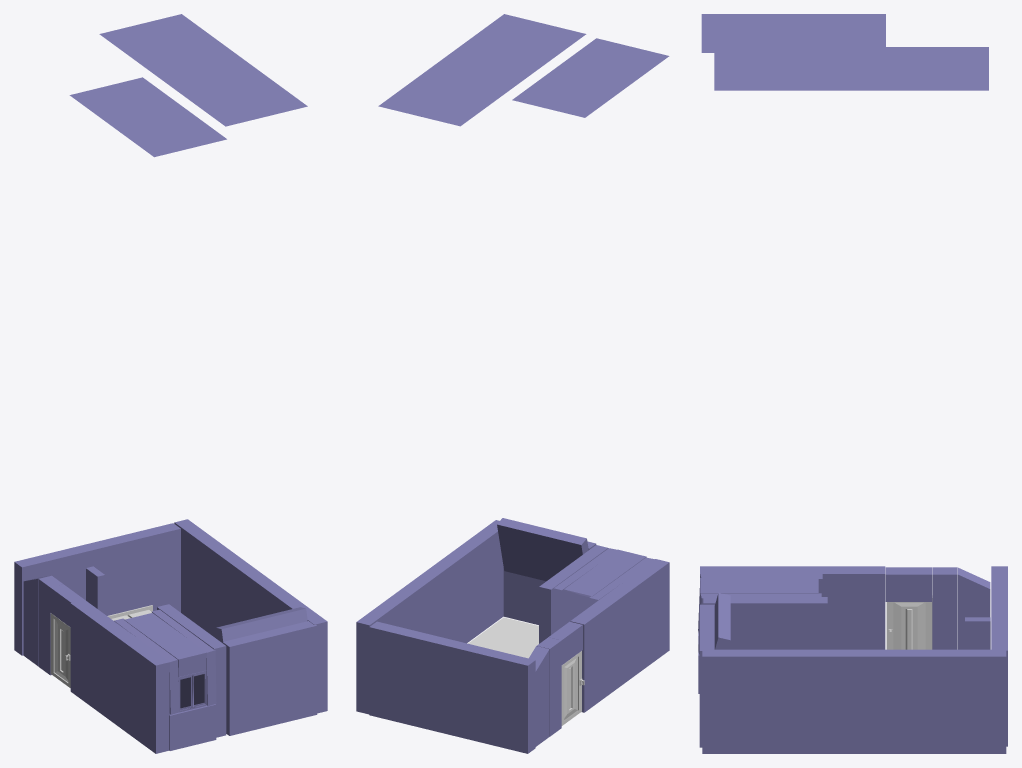
File: Mark's RoomExport.FBX
The picture shows the model from 3 angles, left to right: view 1: azimuth 30°, elevation 25°; view 2: azimuth 150°, elevation 25°; view 3: azimuth 270°, elevation 25°; orthographic projection. The views are drawn at different scales.
Visible parts, largest first — view 1: Box013, Box001, Box017, Wall_2, Box019, Box004, Wall_003, Box002, Box003, Wall_004, Box016, Box015 (+6 smaller); view 2: Box017, Box019, Box013, Box001, Box004, Wall_004, Wall_003, Plane004, Wall_2, Box016, Box015, Left_SideReal (+4 smaller); view 3: Box019, Box013, Box004, Box001, Wall_003, Left_SideReal, Box015, Box016, Box020, Box017, Box003, Wall_2 (+5 smaller).
Part boxes in pixels (x1,y1,x2,y2): Box013: (99,14,307,126); Box001: (70,599,169,753); Box017: (14,523,180,655); Wall_2: (222,621,317,735); Box019: (174,519,327,713); Box004: (69,77,226,157); Wall_003: (157,604,226,737); Box002: (169,704,216,750); Box003: (141,625,206,676); Wall_004: (216,607,307,642); Box016: (23,575,50,666); Box015: (38,575,62,675); Box017: (369,621,535,753); Box019: (356,520,503,714); Box013: (378,14,586,126); Box001: (570,559,669,712); Box004: (512,38,669,117); Wall_004: (497,518,588,581); Wall_003: (539,545,608,643); Plane004: (468,617,538,658); Wall_2: (503,541,596,624); Box016: (529,646,549,746); Box015: (537,637,561,736); Left_SideReal: (561,651,581,725); Box019: (702,649,1006,753); Box013: (714,47,988,90); Box004: (701,14,885,52); Box001: (700,566,885,649); Wall_003: (703,597,827,649); Left_SideReal: (886,595,932,649); Box015: (932,567,957,649); Box016: (958,567,990,649); Box020: (885,567,931,601); Box017: (991,566,1007,746); Box003: (700,578,781,593); Wall_2: (699,604,714,747).
Size of the model in its own units: 25.02 by 83.21 by 35.25.
